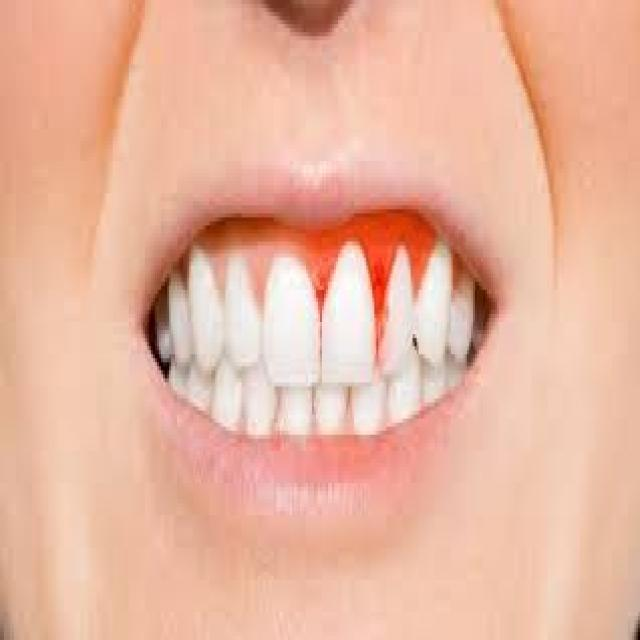tooth: (328, 250, 364, 358), (270, 266, 314, 342), (190, 258, 220, 330), (348, 378, 381, 431), (416, 266, 444, 326), (386, 246, 408, 318), (226, 278, 250, 338), (396, 350, 418, 415), (167, 286, 187, 350), (216, 370, 240, 419), (280, 382, 304, 431), (422, 362, 444, 411), (252, 370, 266, 439), (191, 354, 205, 419), (447, 354, 463, 399), (457, 278, 467, 346), (322, 394, 336, 426)
